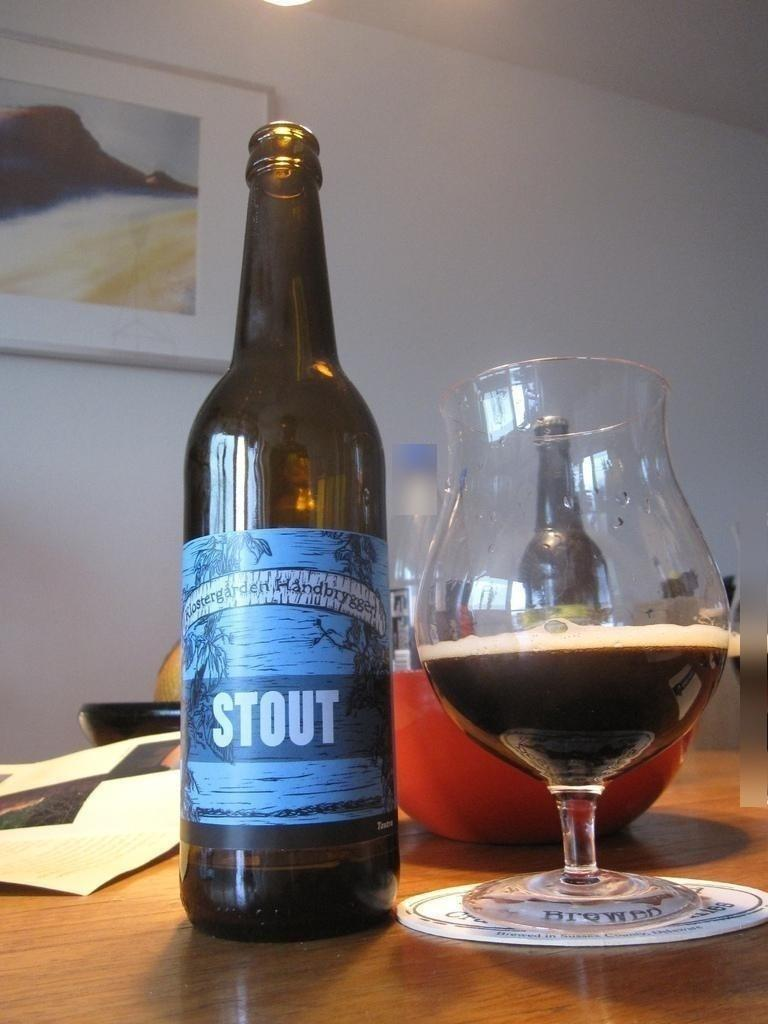bottle-glass: (180, 117, 406, 953)
glass-wine: (414, 349, 734, 934)
